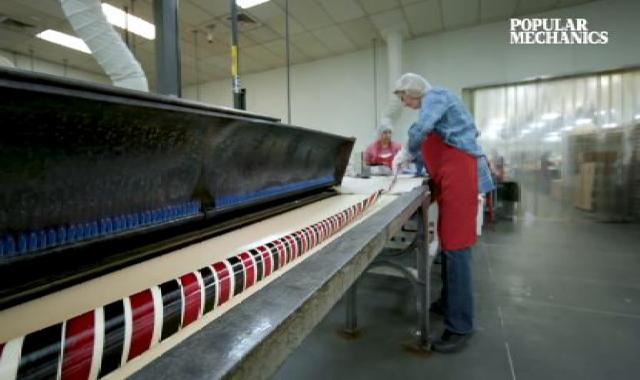hairnet: (390, 68, 433, 108), (371, 119, 394, 138)
